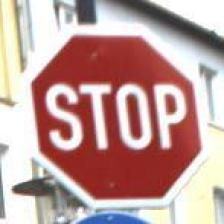Stop: (20, 20, 206, 204)
